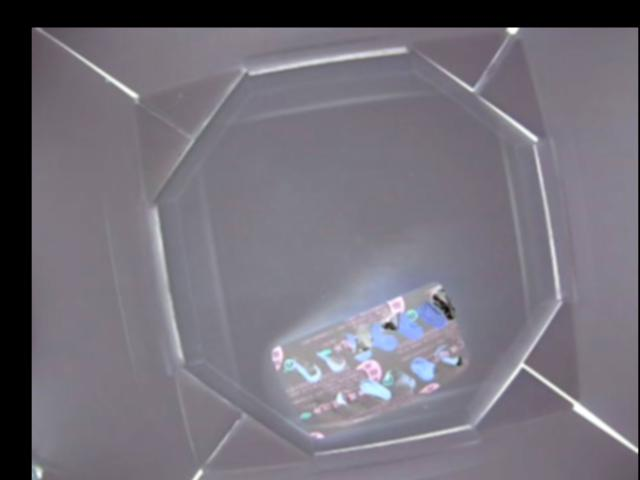Medicine: (262, 281, 465, 438)
